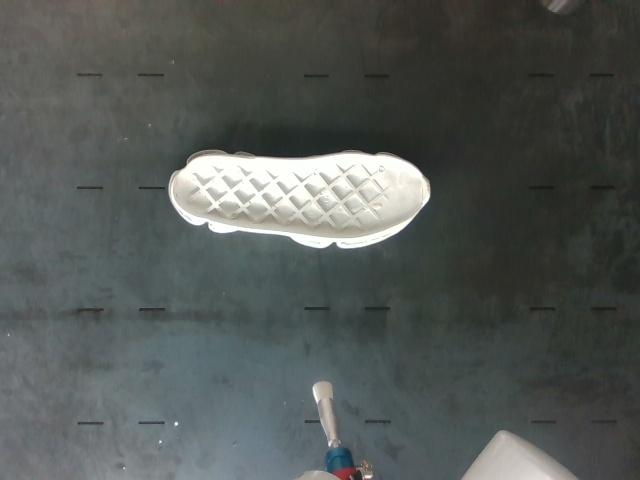shoes: (171, 154, 430, 239)
